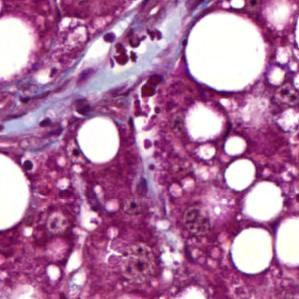steatosis: (185, 8, 269, 96), (225, 222, 279, 278), (76, 113, 125, 164), (223, 158, 257, 190)
